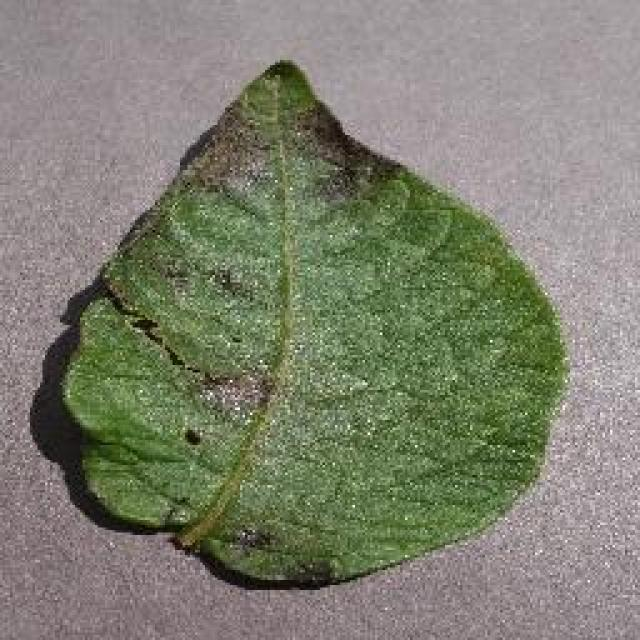late_blight: (55, 55, 573, 593)
